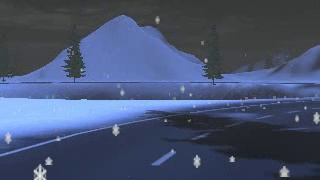Lane: (1, 99, 319, 179)
